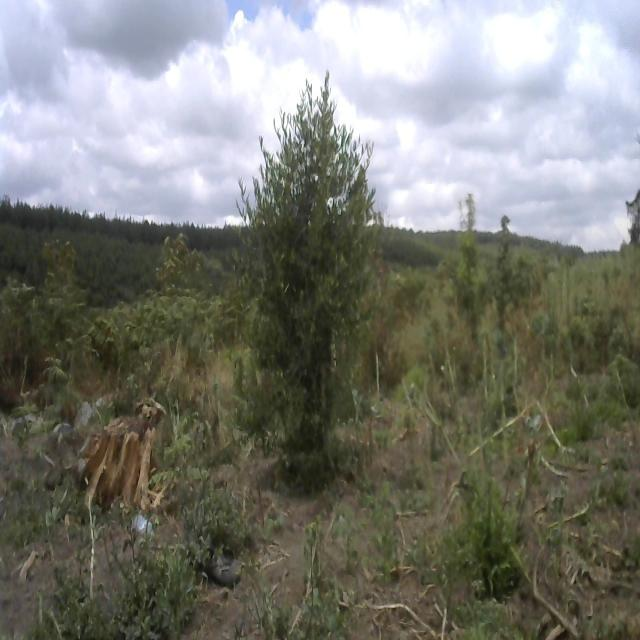Olea europea -africana-: (232, 76, 377, 454)
